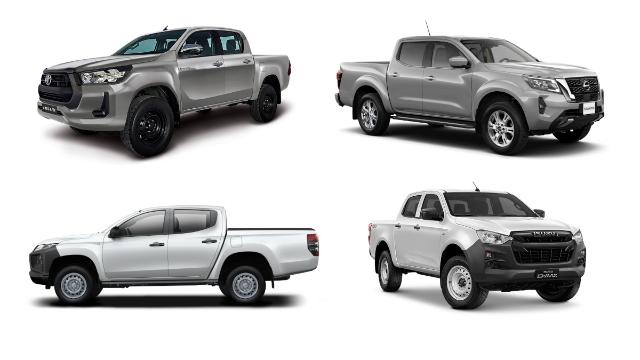pickup-truck: (30, 24, 293, 160), (338, 34, 602, 155), (364, 186, 590, 316), (27, 206, 320, 304)
